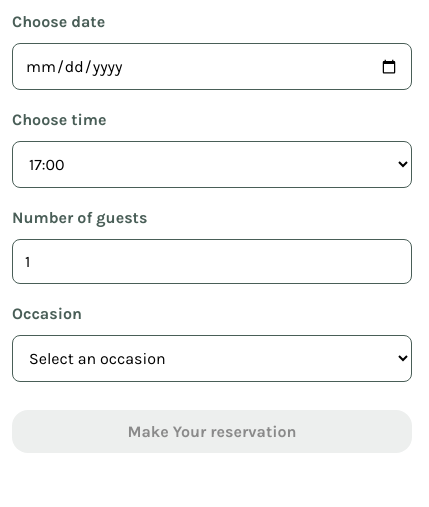
React form validation › guests: shows an error for more than 10 guests (invalid)
The width and height of the screenshot is (429, 507).
Type "11" into the number field labelled "Number of guests" at x=212, y=262, box [12,239,412,284]
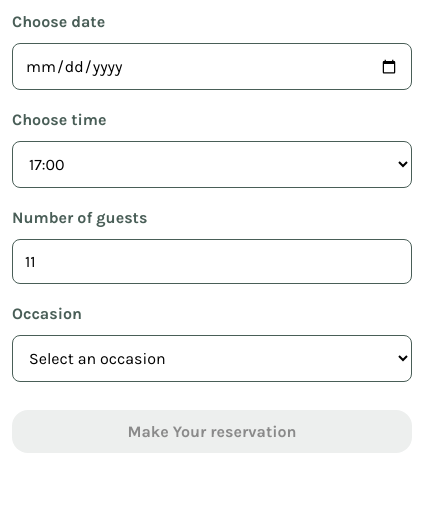
Leave the number field labelled "Number of guests", box [12,239,412,284]
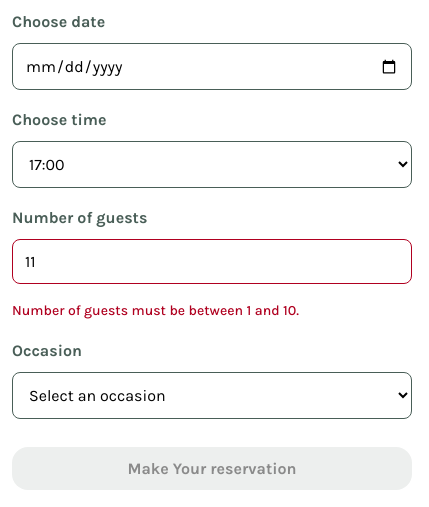
Expected: the text "Number of guests must be between 1 and 10." is shown, [12,302,299,319]
